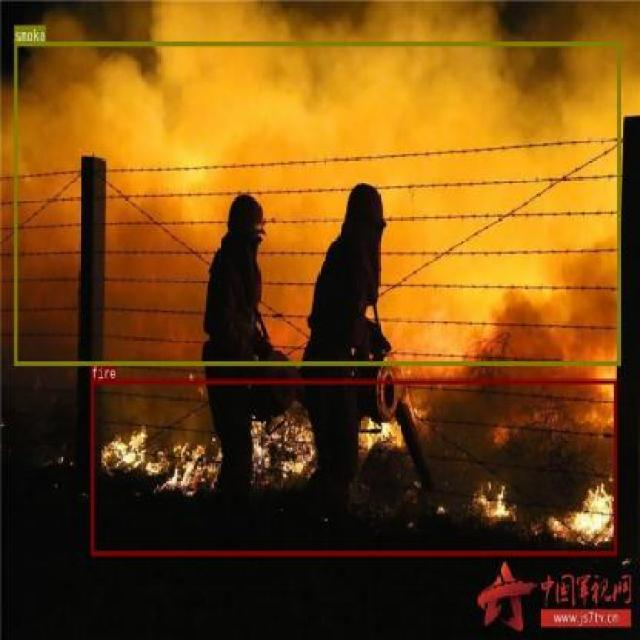fire: (90, 378, 616, 556)
smoke: (13, 41, 619, 364)
